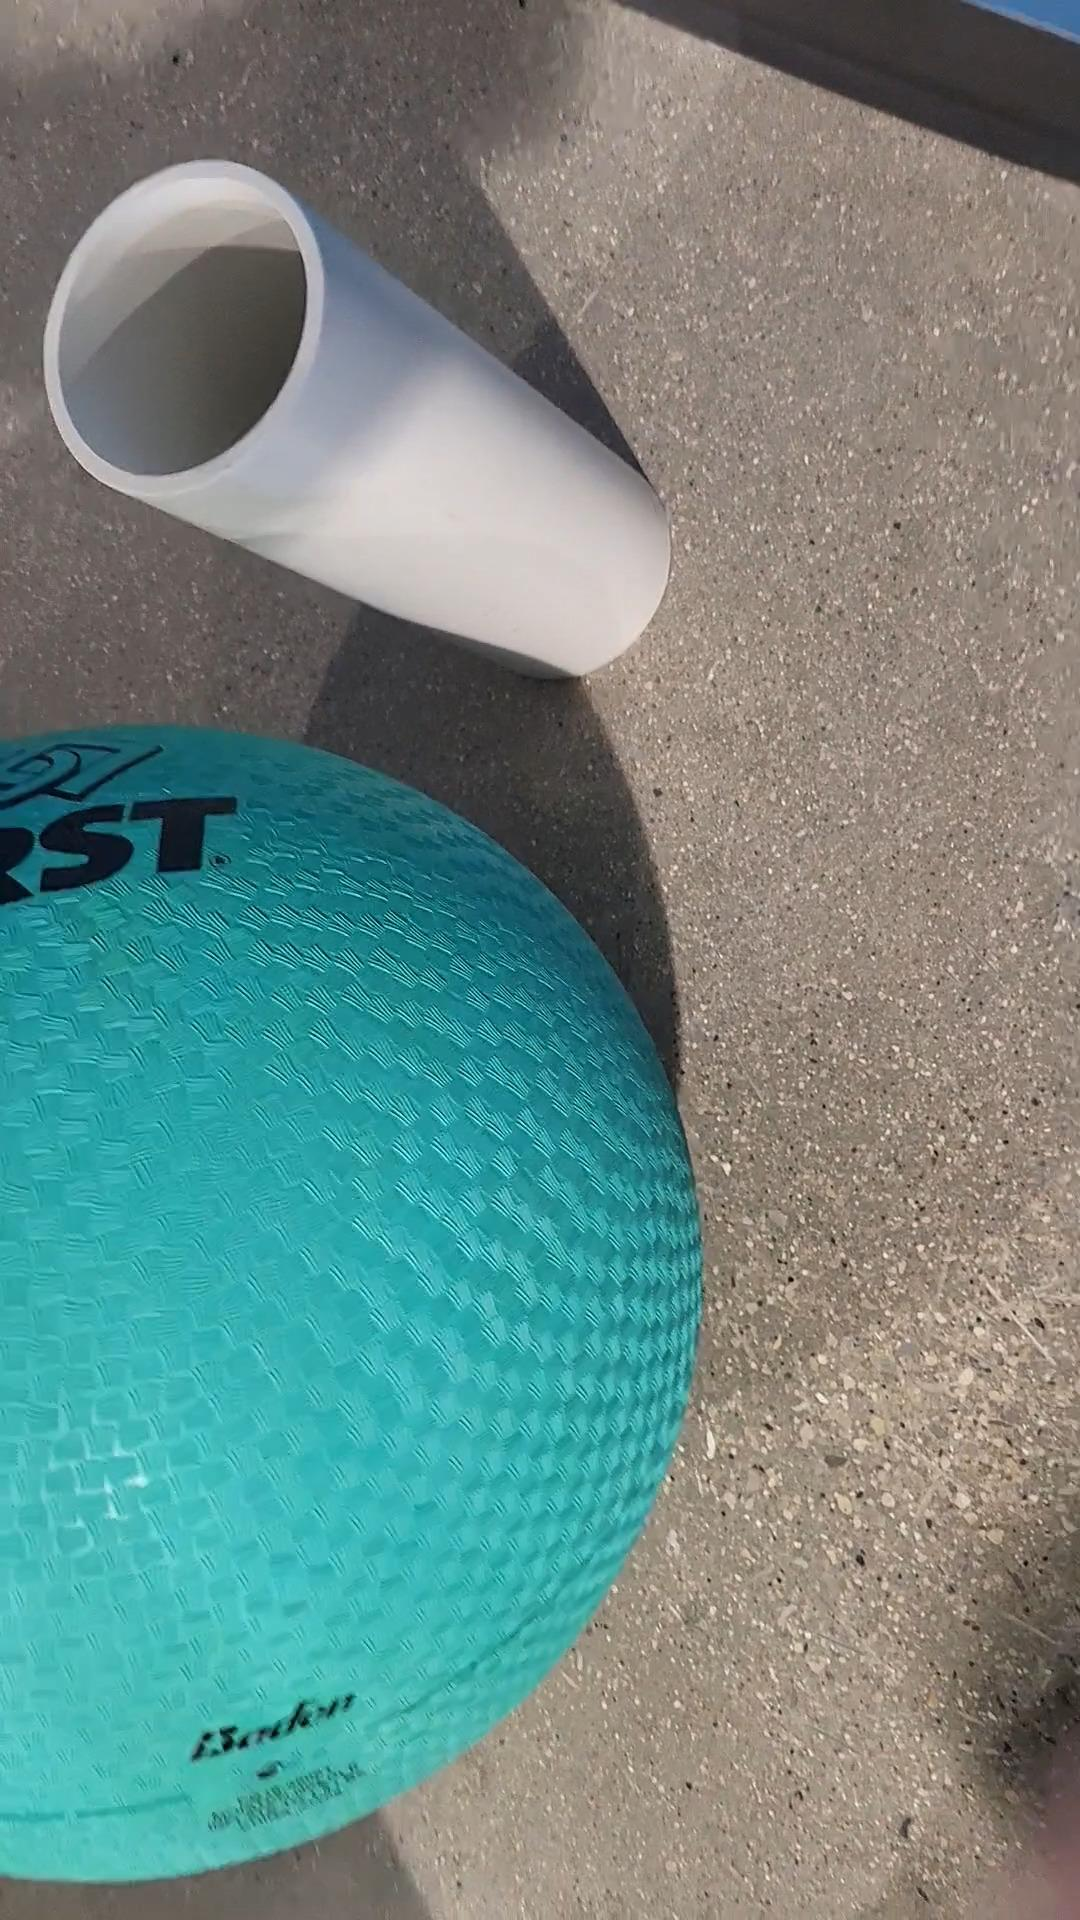algae: (0, 728, 708, 1880)
coral: (42, 156, 673, 673)
